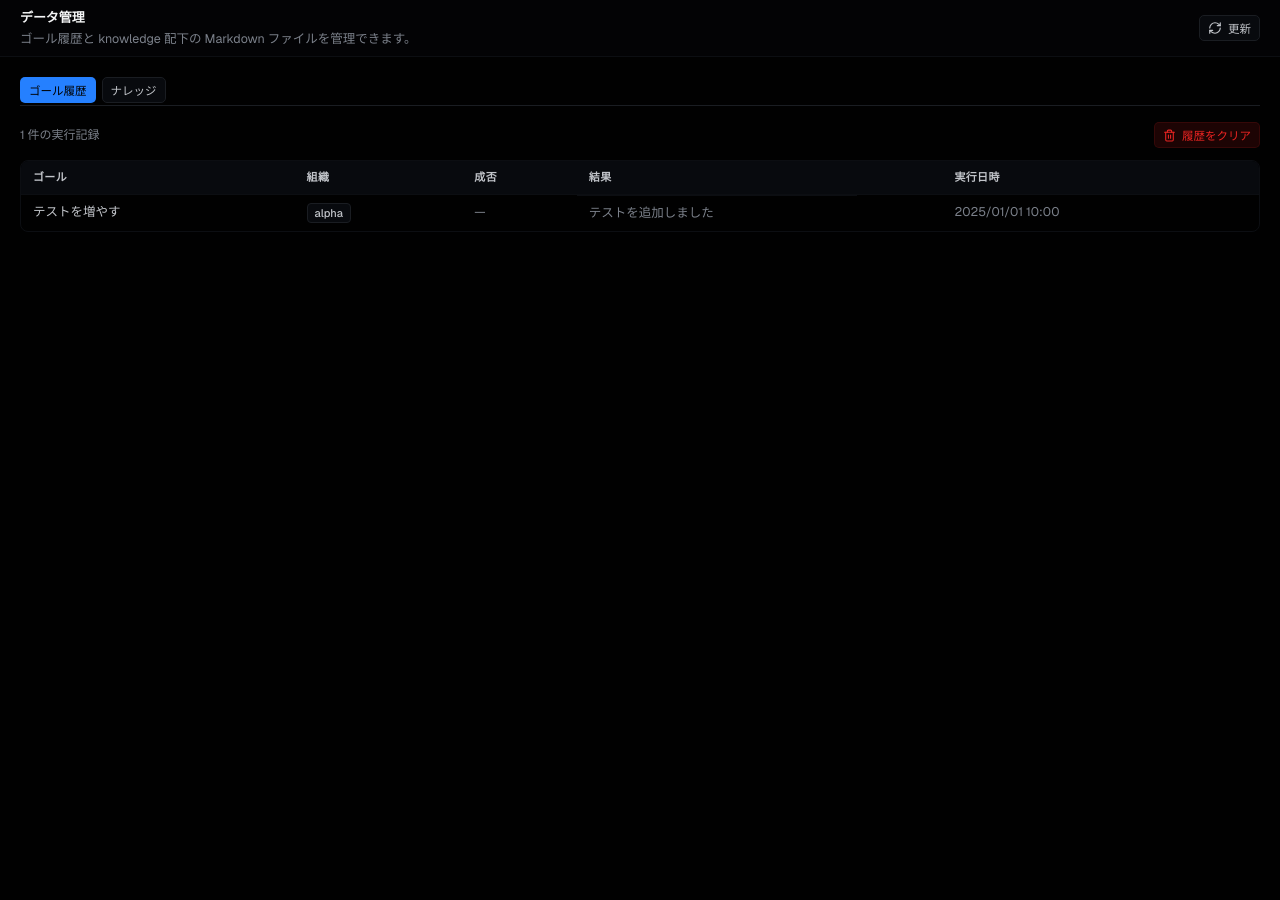
Test: DataPage › clears history via ConfirmDialog (no window.confirm)
Expected: the text "テストを増やす" is shown, x1=21 y1=194 x2=295 y2=231
Note: Click the clear button — this should open ConfirmDialog, not window.confirm
Click the button "履歴をクリア" at {"x": 1207, "y": 135}, box x1=1154 y1=122 x2=1260 y2=148
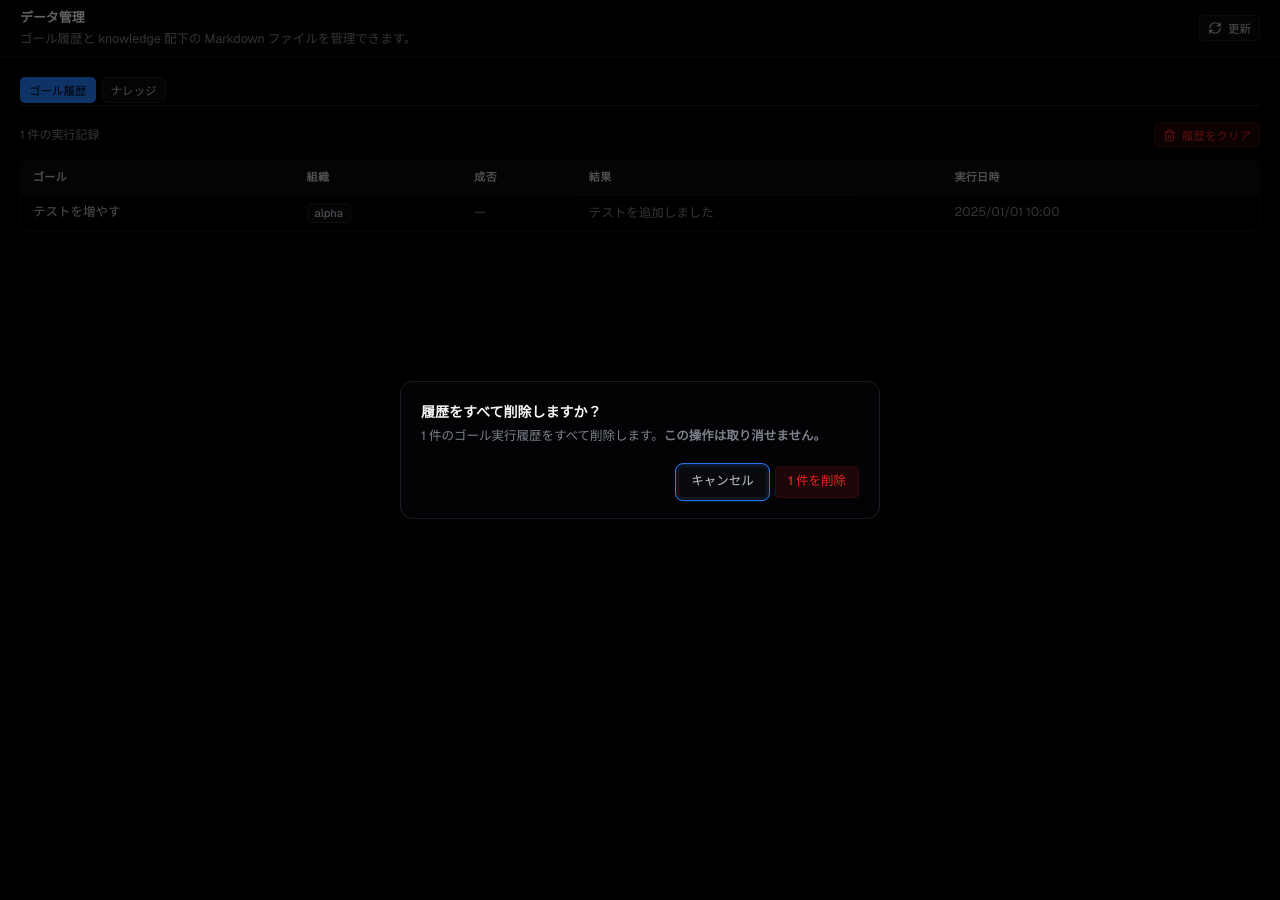
Now the dialog is shown, box x1=400 y1=381 x2=880 y2=519
Now the heading "履歴をすべて削除しますか？" is shown, box x1=421 y1=403 x2=602 y2=421
Note: Confirm in the dialog
Click the button "1 件を削除" at {"x": 817, "y": 482}, box x1=775 y1=466 x2=859 y2=498
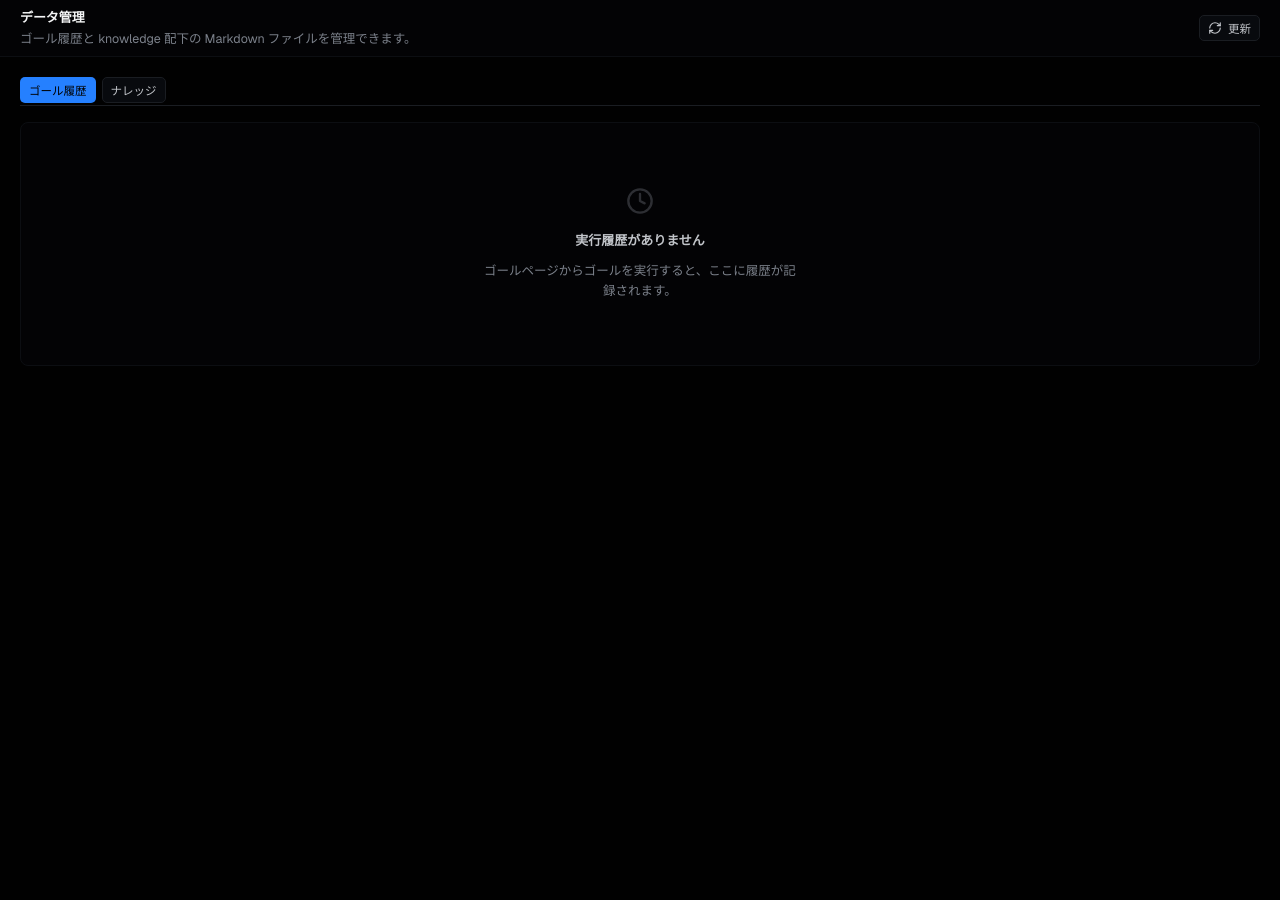
Now the heading "実行履歴がありません" is shown, box x1=575 y1=231 x2=705 y2=251
